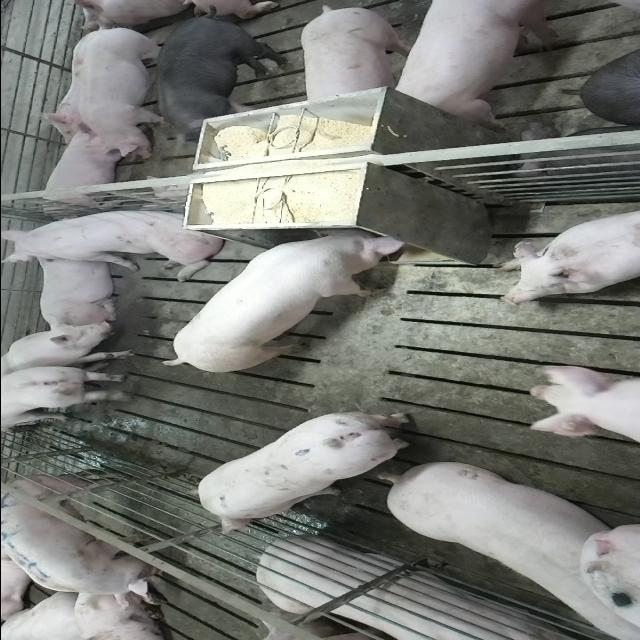Feeding: (162, 219, 410, 369)
Sitting: (4, 203, 230, 276), (2, 320, 142, 374)
Standing: (373, 456, 633, 634), (193, 412, 420, 536), (386, 2, 570, 124), (0, 475, 158, 612), (156, 14, 284, 142), (73, 23, 170, 160), (296, 6, 413, 108), (0, 366, 129, 438)
Sternal_lying: (256, 539, 581, 640), (495, 206, 640, 306), (34, 130, 132, 213), (35, 250, 121, 328)
